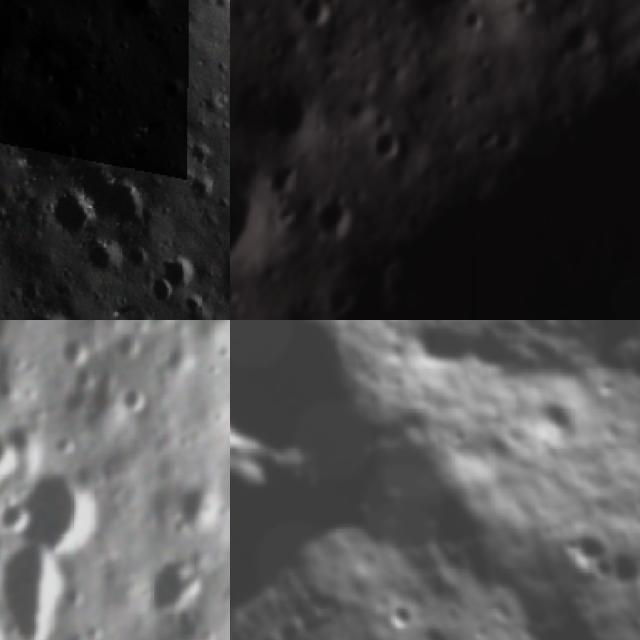crater: (230, 320, 421, 518), (230, 376, 345, 618), (320, 320, 616, 381), (7, 444, 104, 554), (0, 540, 72, 634), (511, 373, 589, 453), (548, 504, 622, 576), (260, 76, 330, 150), (230, 161, 267, 295), (141, 544, 205, 611), (88, 170, 154, 234), (37, 184, 103, 240), (18, 123, 84, 177), (168, 466, 225, 528), (365, 587, 427, 640), (403, 0, 504, 32), (306, 189, 361, 245), (394, 609, 460, 640), (82, 240, 131, 281), (364, 129, 409, 167), (52, 75, 88, 121), (162, 250, 203, 290), (111, 0, 162, 23), (303, 0, 340, 31), (257, 607, 290, 640)
